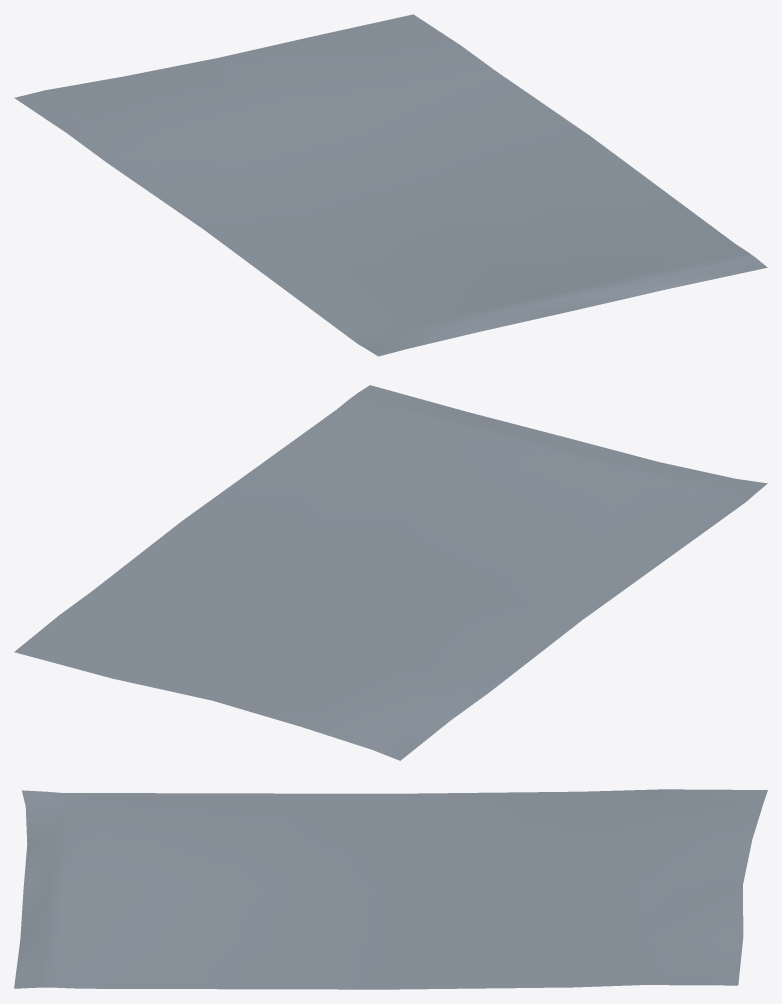
3 renders of one model, top to bottom at view 1: azimuth 30°, elevation 25°; view 2: azimuth 150°, elevation 25°; view 3: azimuth 270°, elevation 25°, orthographic. The views are drawn at different scales.
Visible parts, largest first — view 1: G:\FFXIV-MapTools\exports\g3f1\bg\ex2\01_gyr_g3\fld\g3f1\bgp; view 2: G:\FFXIV-MapTools\exports\g3f1\bg\ex2\01_gyr_g3\fld\g3f1\bgp; view 3: G:\FFXIV-MapTools\exports\g3f1\bg\ex2\01_gyr_g3\fld\g3f1\bgp.
Part boxes in pixels (x1,y1,x2,y2): G:\FFXIV-MapTools\exports\g3f1\bg\ex2\01_gyr_g3\fld\g3f1\bgp: [14, 14, 767, 356]; G:\FFXIV-MapTools\exports\g3f1\bg\ex2\01_gyr_g3\fld\g3f1\bgp: [14, 385, 767, 760]; G:\FFXIV-MapTools\exports\g3f1\bg\ex2\01_gyr_g3\fld\g3f1\bgp: [14, 789, 767, 989].
Bounding box in the file's own units: 5.1 × 0.0439 × 8.14.
